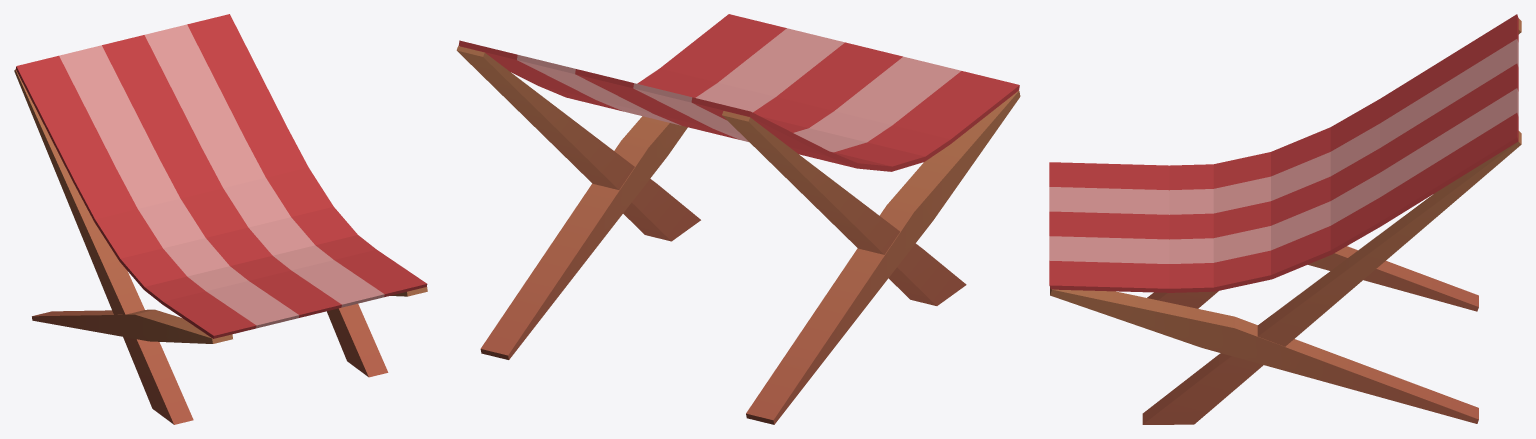
The model's file is BeachChair1.fbx.
3 views of the same model, side by side, from view 1: azimuth 30°, elevation 25°; view 2: azimuth 150°, elevation 25°; view 3: azimuth 270°, elevation 25° (orthographic). The views are drawn at different scales.
Parts seen in each view (by area): view 1: Cube.090; view 2: Cube.090; view 3: Cube.090.
Part boxes in pixels (x1,y1,x2,y2): Cube.090: [14, 14, 427, 424]; Cube.090: [456, 14, 1020, 424]; Cube.090: [1049, 14, 1521, 424].
Size of the model in its own units: 140 by 151 by 225.
